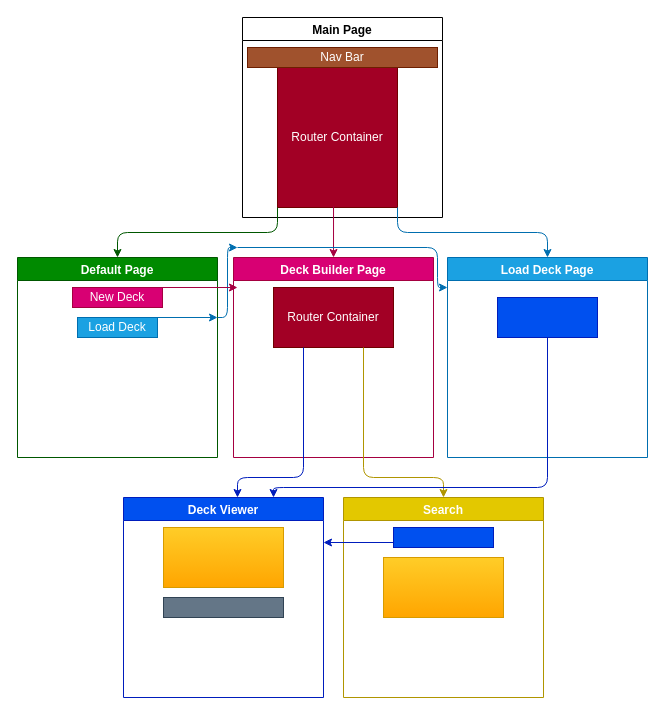
Image size: 665x715. Some labels were removed from this diagram. The shapes that lost their labels are listed below. From the top down, each one's centre as x and y in pixels, then its label:
At pixel 547 317: "Load Deck Button".
At pixel 223 557: "Deck List".
At pixel 443 537: "Return to Deck".
At pixel 223 607: "Export Deck Button".
At pixel 443 587: "Search Results".
